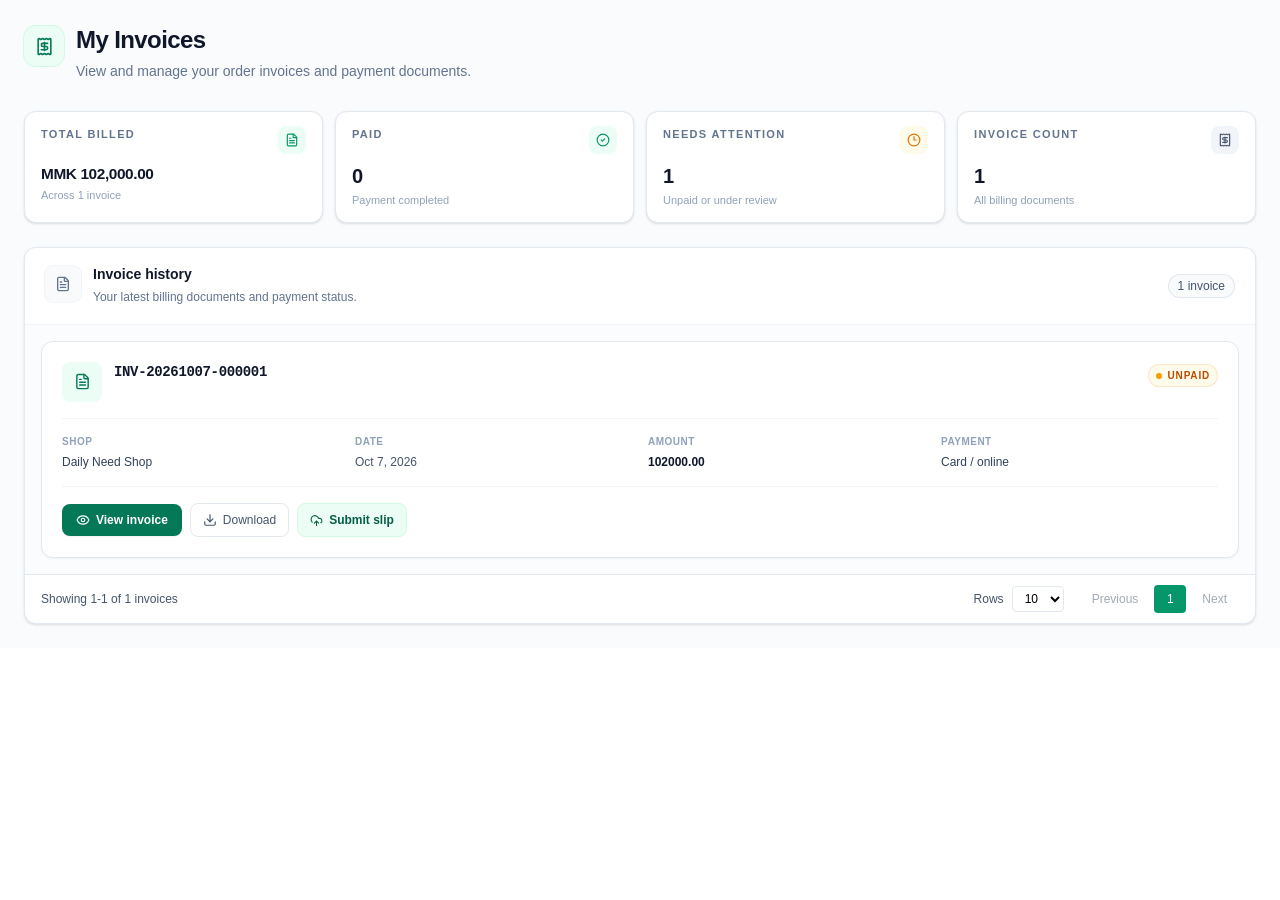
Scenario: CustomerInvoicesPage payment slip actions › keeps slip submission available for a non-COD unpaid invoice
The width and height of the screenshot is (1280, 900).
Step 1. Click the button "Submit slip" → (352, 520), box [297, 503, 407, 537]
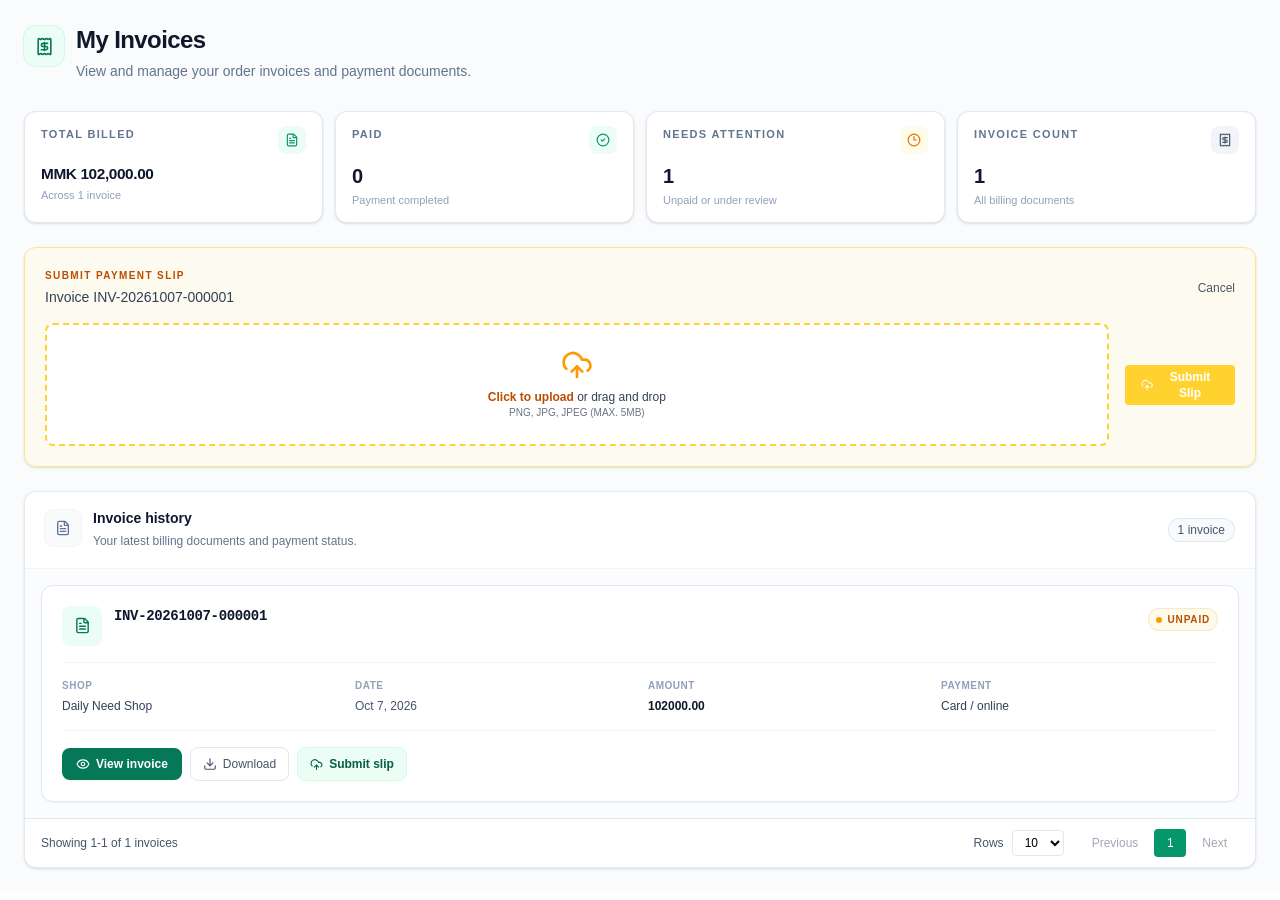
Expected: the text "Submit payment slip" is shown, [45, 270, 185, 281]
